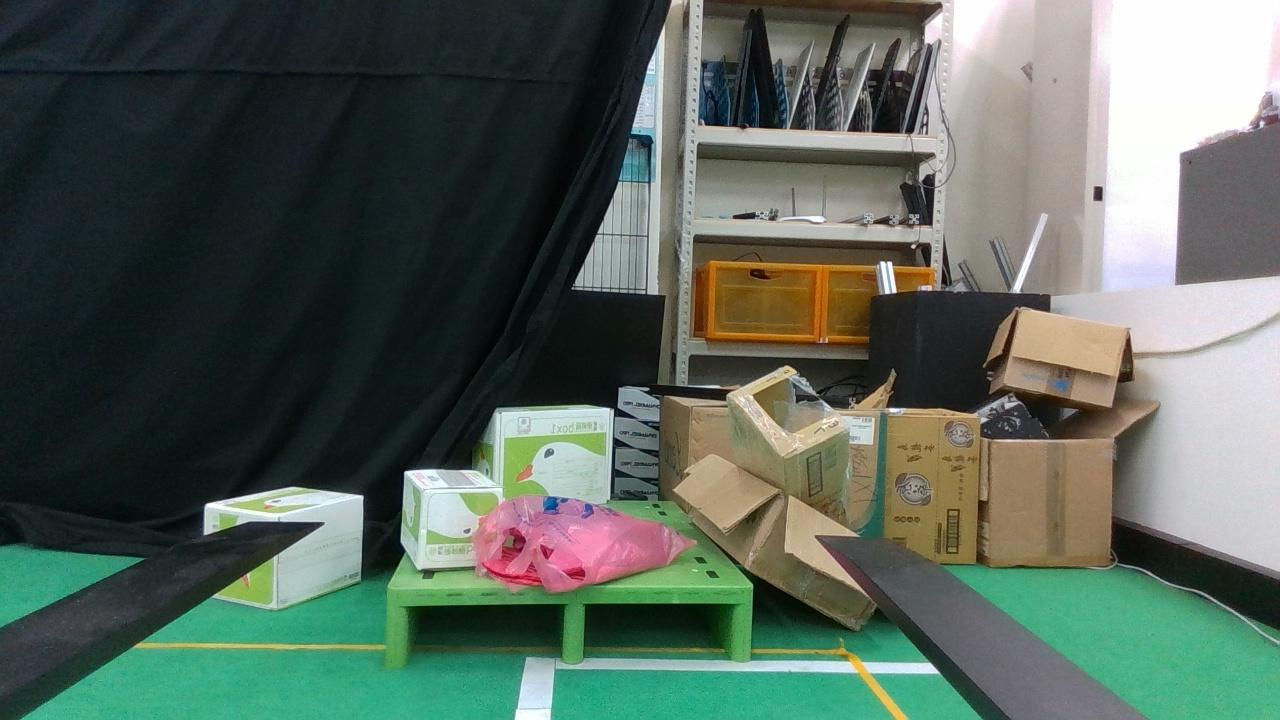Pallet: (384, 584, 752, 668)
